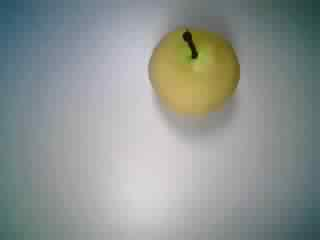pear: (138, 20, 243, 123)
